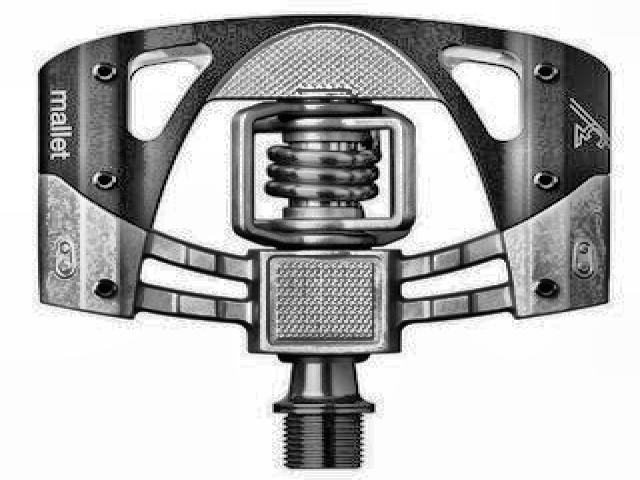pedal: (30, 12, 615, 469)
